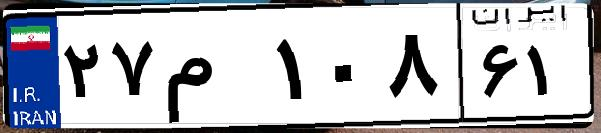0: (330, 28, 385, 110)
1: (270, 28, 330, 110), (525, 38, 570, 115)
2: (57, 26, 110, 100)
6: (475, 38, 525, 113)
7: (110, 28, 158, 98)
8: (385, 28, 445, 110)
م: (158, 20, 270, 120)
